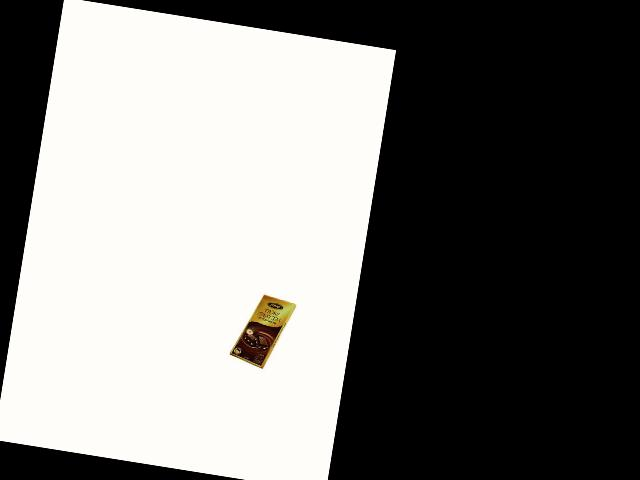chocolate: (227, 290, 299, 379)
